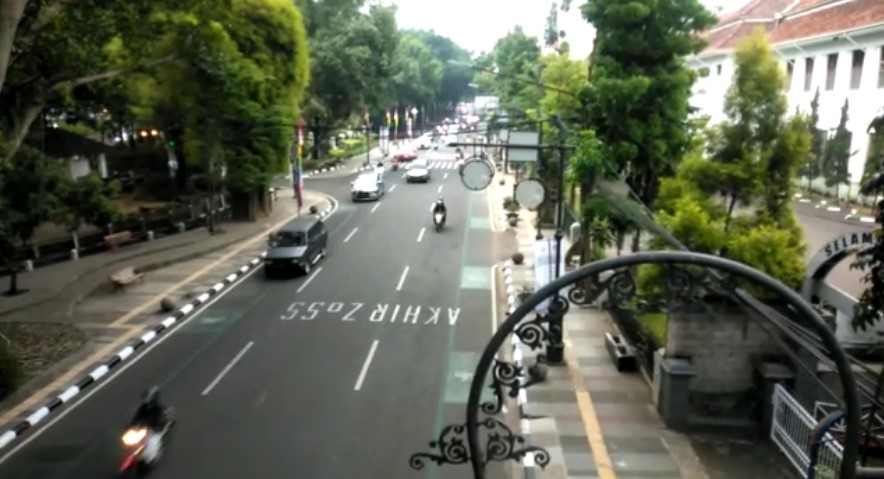mobil: (263, 215, 336, 280), (346, 170, 386, 201), (405, 158, 433, 184)
motor: (110, 386, 181, 472), (425, 196, 450, 235)
